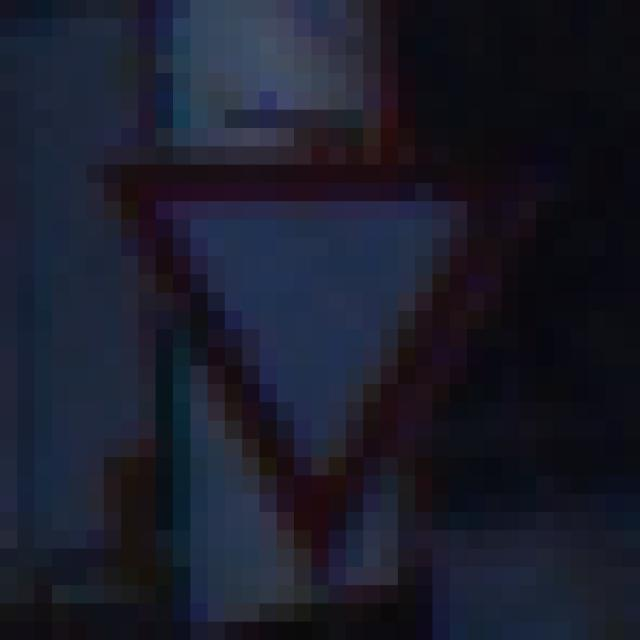Give Way: (88, 93, 555, 550)
